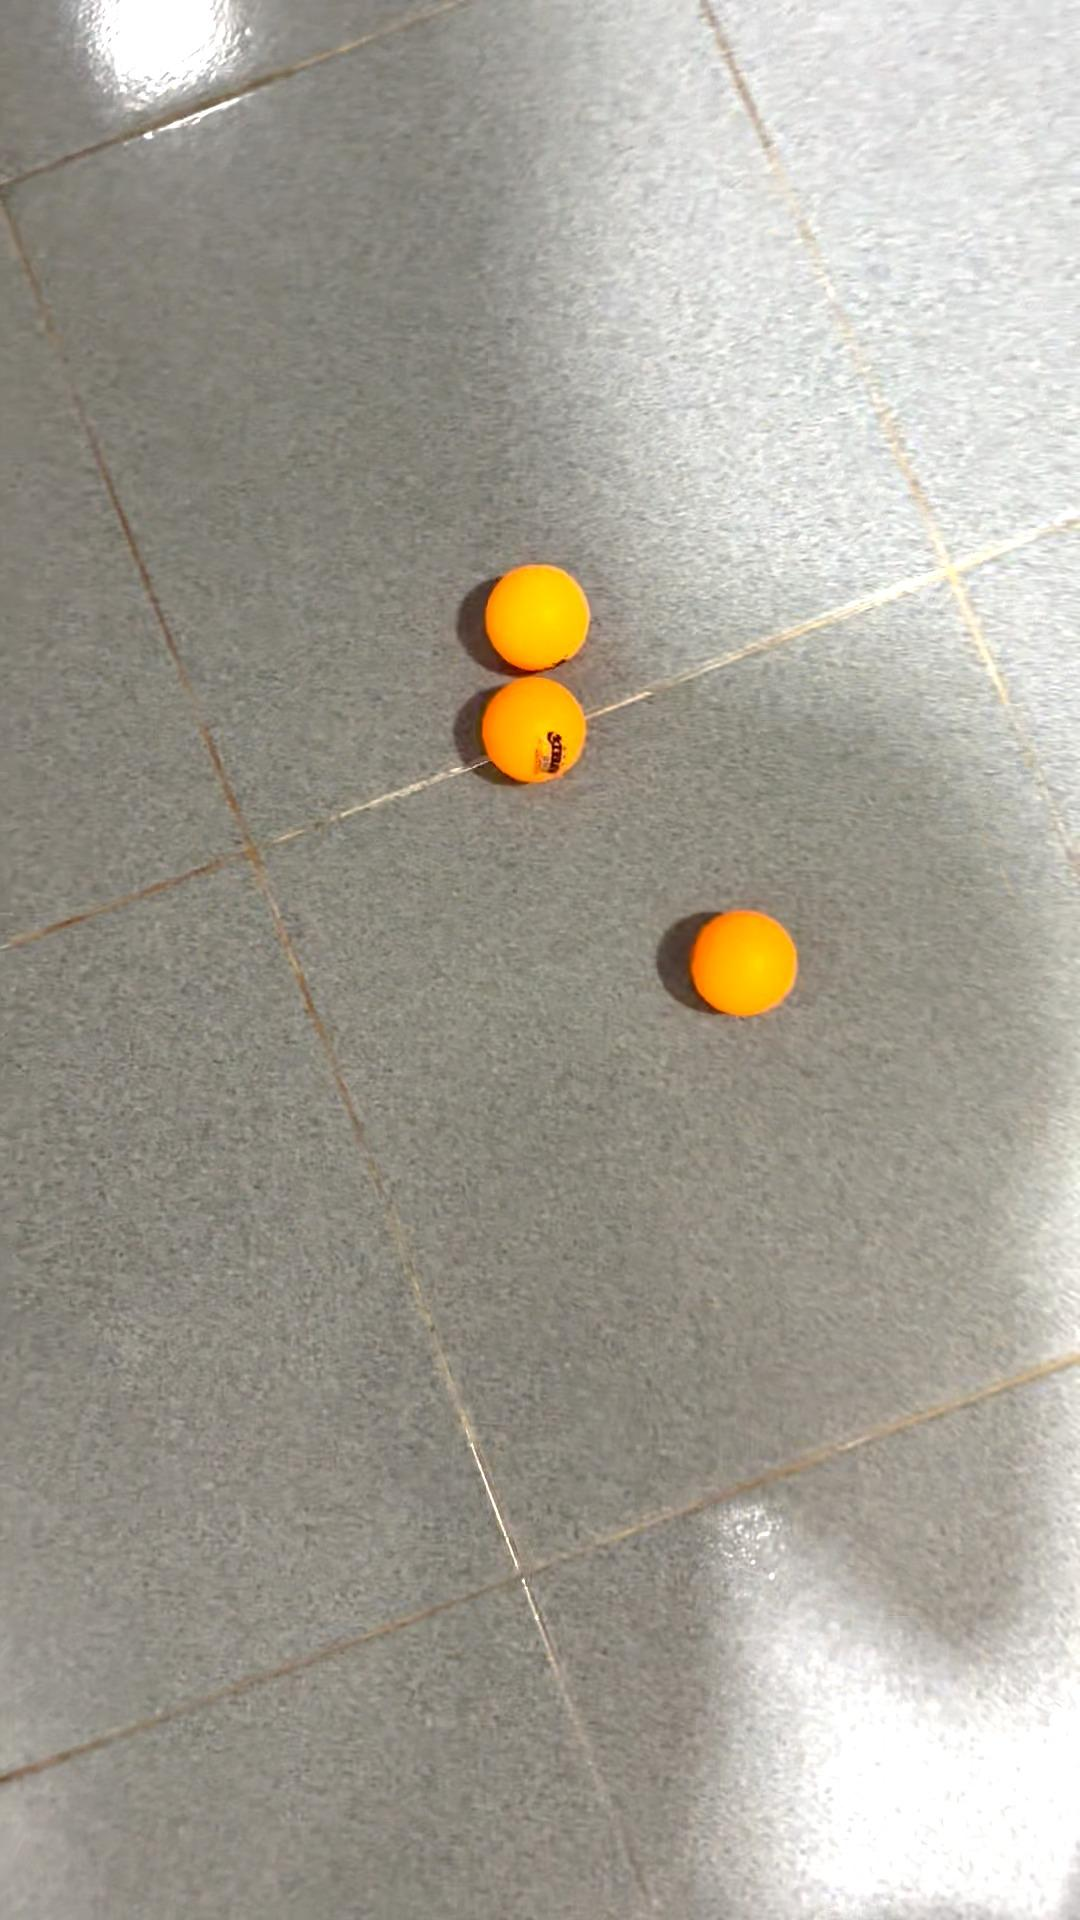oball: (682, 905, 808, 1029), (462, 678, 593, 793), (481, 554, 600, 669)
